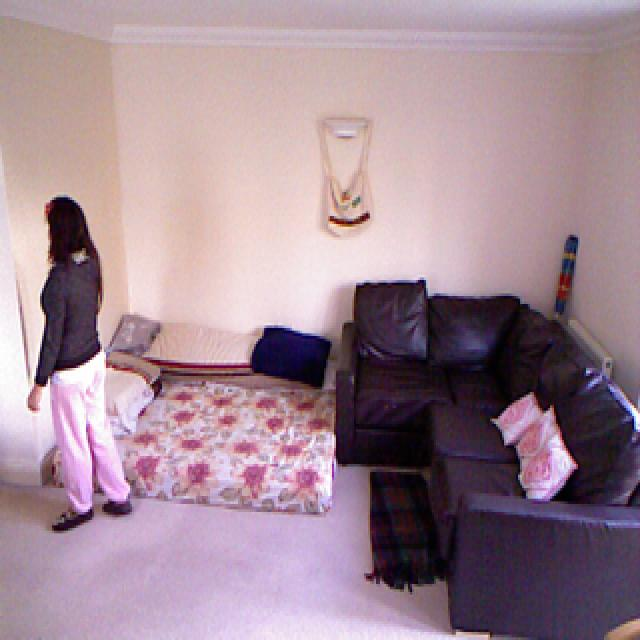standing: (27, 196, 134, 530)
